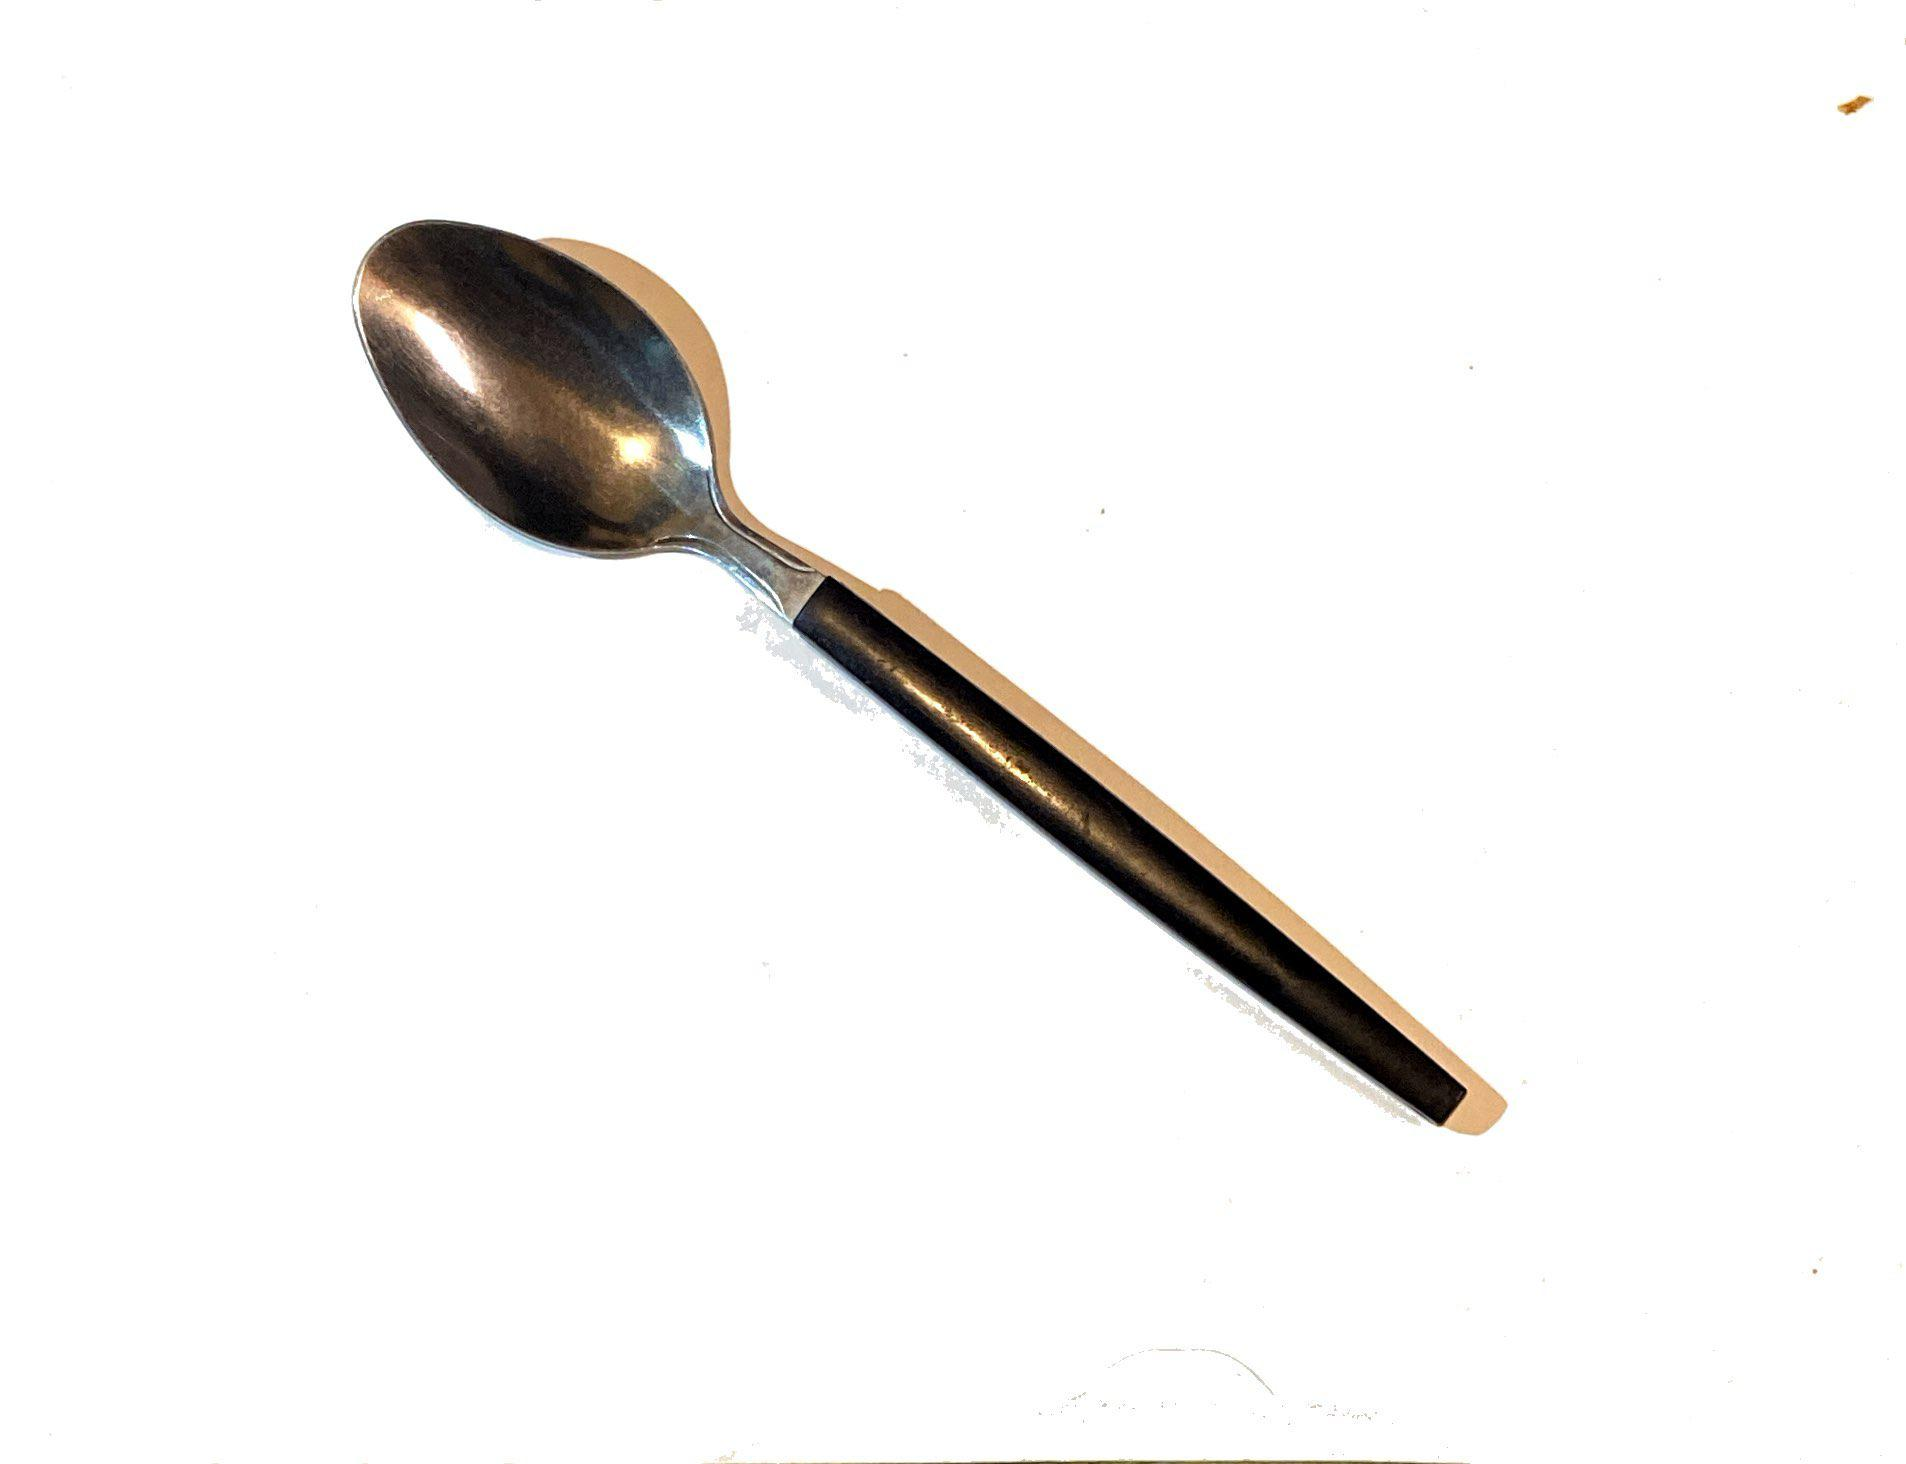Spoon: (304, 155, 1545, 1206)
